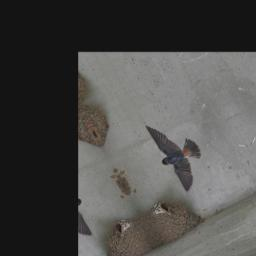Swallow: (140, 109, 217, 197)
